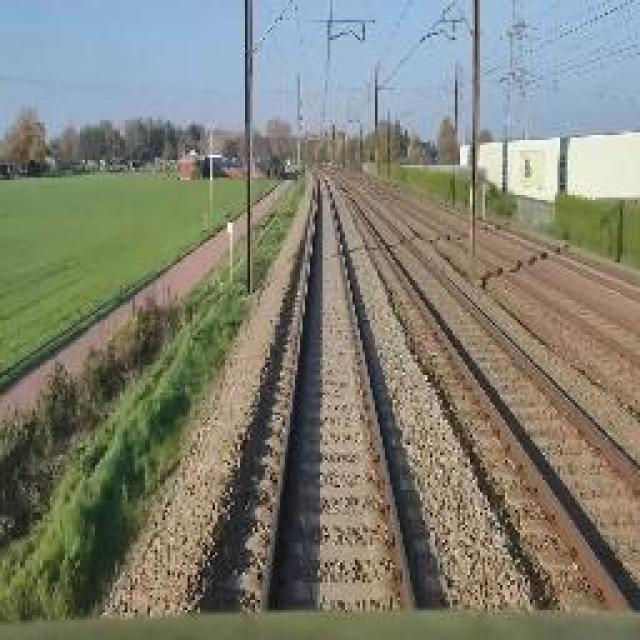rail: (212, 160, 640, 614)
